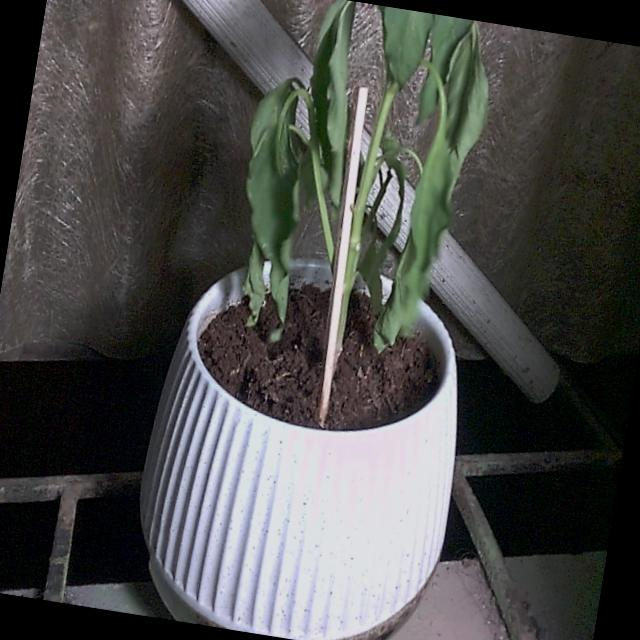Leaf: (216, 66, 326, 349), (366, 111, 465, 362)
